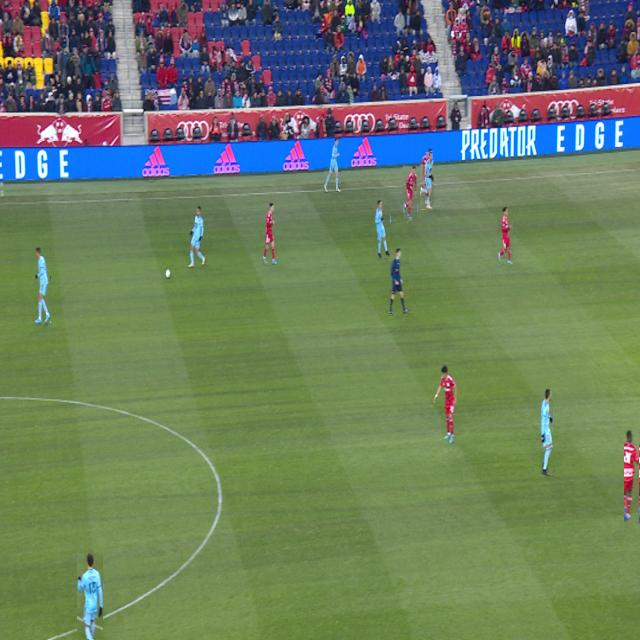football: (165, 269, 171, 278)
player: (78, 553, 103, 640), (433, 366, 457, 443), (625, 431, 639, 522), (36, 248, 50, 324), (188, 206, 205, 267), (541, 389, 553, 475), (324, 138, 341, 192), (263, 203, 277, 265), (498, 207, 513, 264), (376, 200, 390, 258), (420, 152, 434, 209), (404, 166, 417, 219), (424, 148, 433, 190), (426, 194, 429, 205)
referee: (390, 249, 409, 316)
